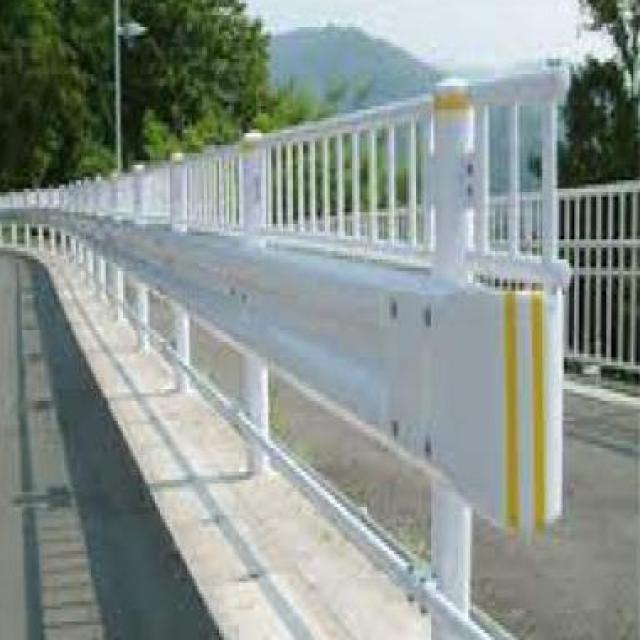Guard rail: (0, 82, 566, 640)
